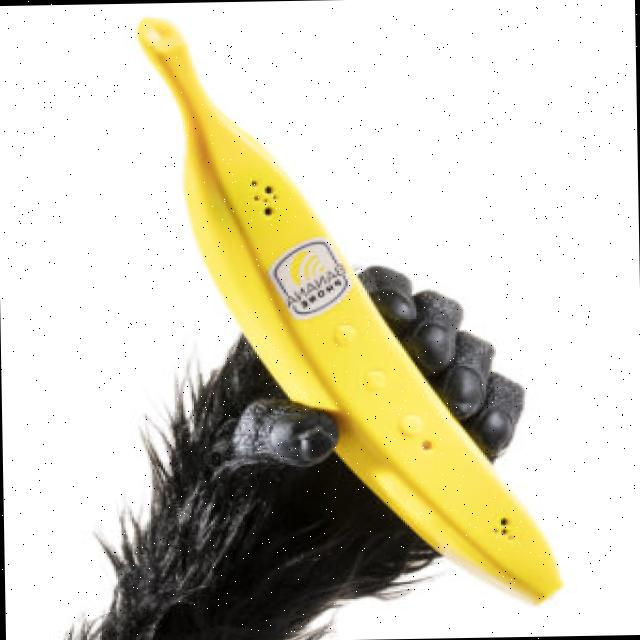Pisang: (136, 6, 564, 612)
